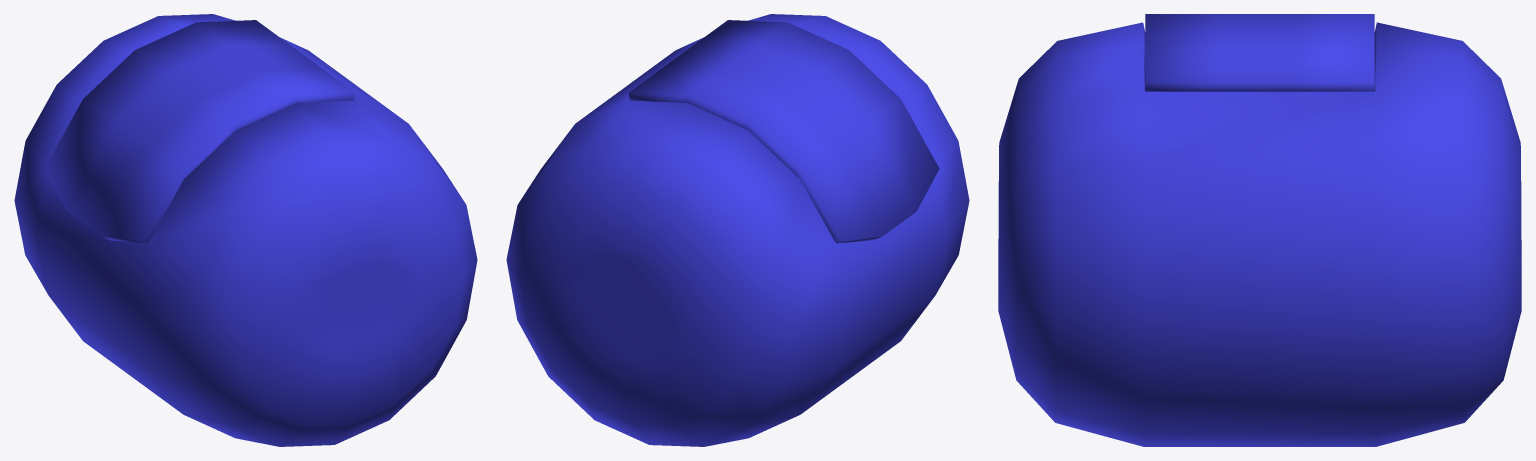
Rendered from Chest.fbx.
3 renders of one model, left to right at view 1: azimuth 30°, elevation 25°; view 2: azimuth 150°, elevation 25°; view 3: azimuth 270°, elevation 25°, orthographic. The views are drawn at different scales.
Visible parts, largest first — view 1: Chest, Lid; view 2: Chest, Lid; view 3: Chest, Lid.
Part boxes in pixels (box(x1,y1,x2,y2)): Chest: box(14, 14, 477, 446); Lid: box(44, 20, 355, 243); Chest: box(506, 14, 969, 446); Lid: box(628, 20, 939, 243); Chest: box(998, 22, 1521, 446); Lid: box(1145, 14, 1374, 91).
Size of the model in its own units: 1.48 by 1.5 by 1.81.
